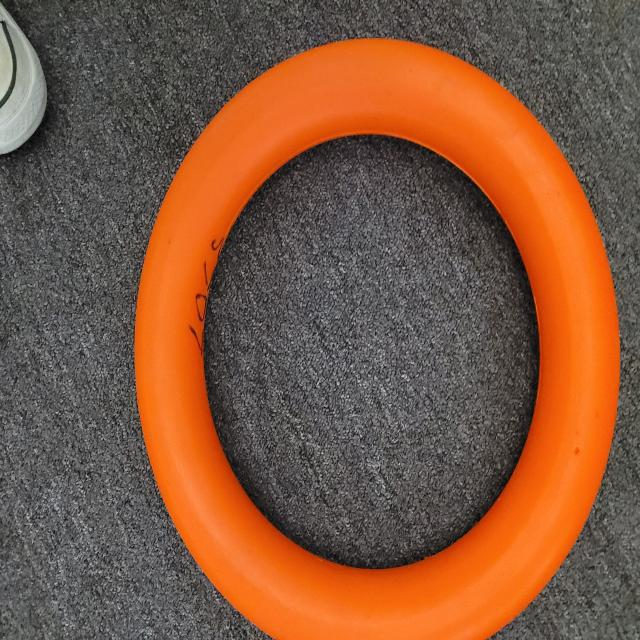note: (120, 20, 640, 640)
